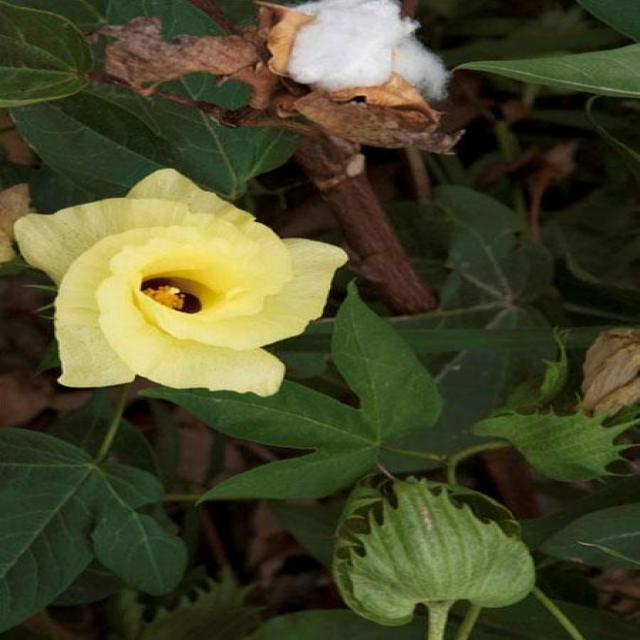Late_blight: (258, 0, 452, 96)
